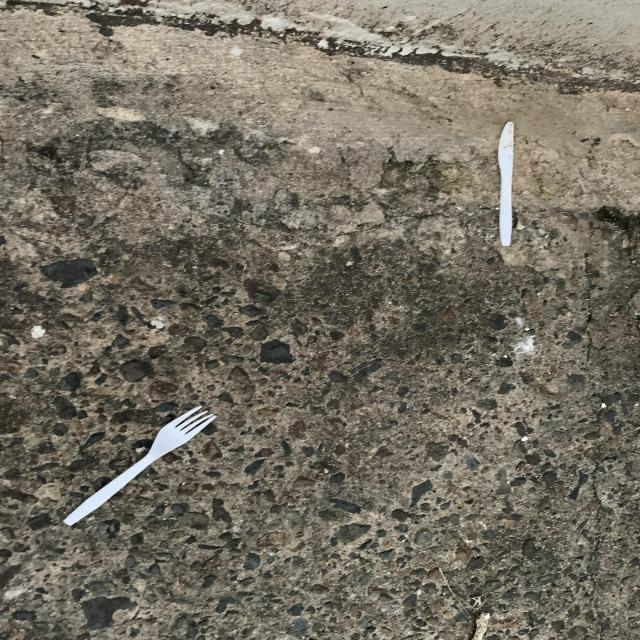litter: (64, 406, 216, 526), (498, 121, 515, 246)
